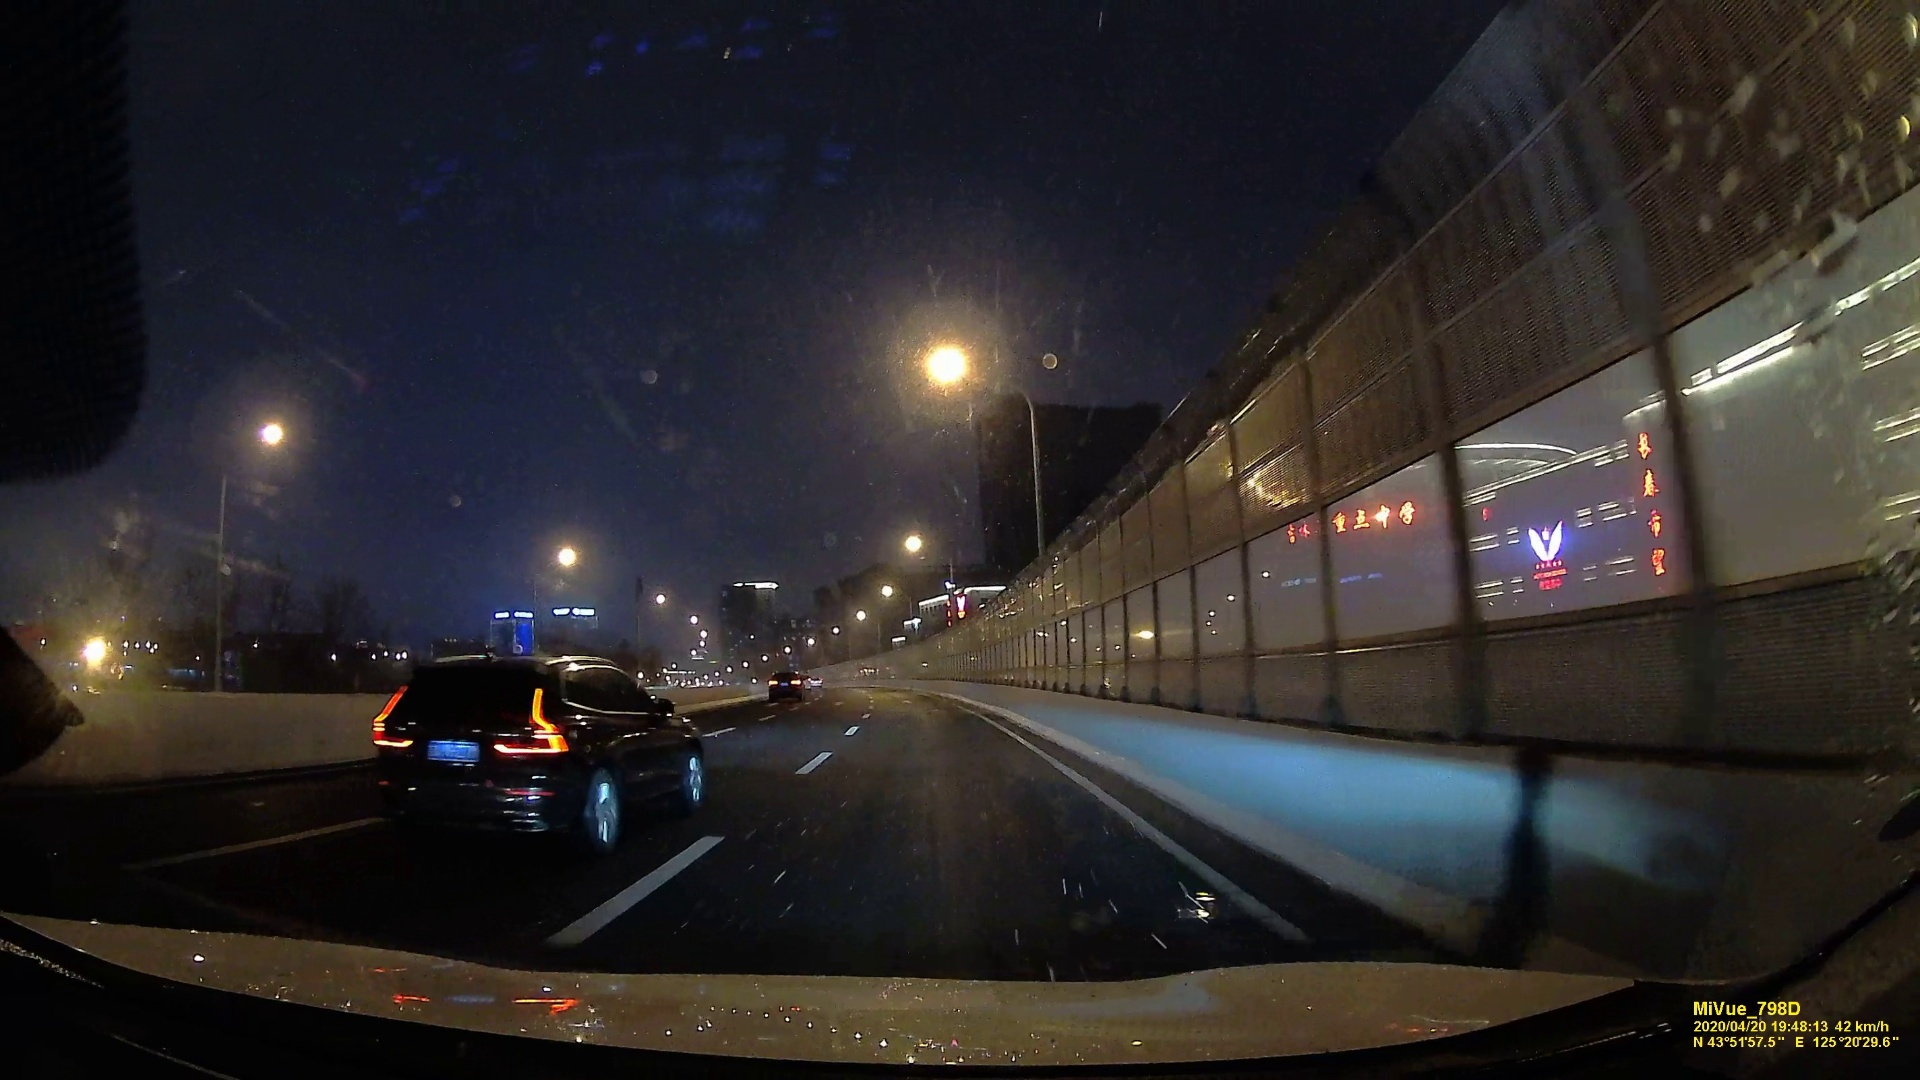vehicle: (364, 646, 708, 852), (765, 669, 806, 698)
